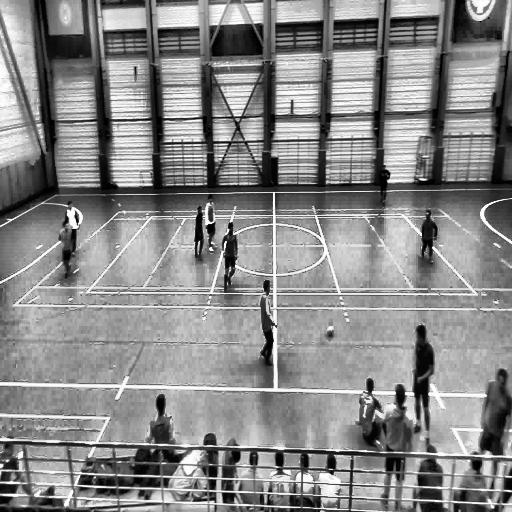ball: (327, 324, 334, 336)
player: (259, 278, 277, 370), (63, 198, 83, 266), (222, 222, 237, 290), (59, 219, 75, 280), (420, 210, 437, 264), (205, 194, 216, 254), (194, 205, 204, 260), (378, 166, 390, 207)
